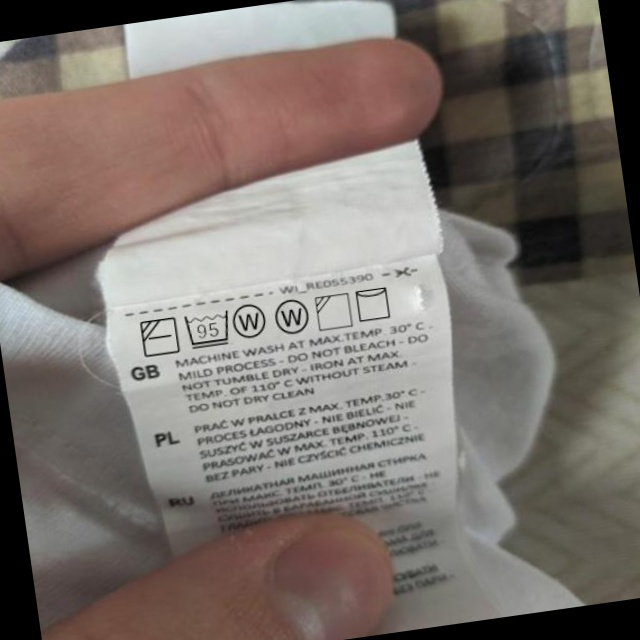95C: (182, 307, 235, 351)
dry_flat_in_shade: (137, 313, 181, 360)
line_dry: (352, 282, 396, 325)
shade_dry: (312, 290, 355, 333)
wet_clean: (231, 297, 271, 342), (272, 296, 313, 339)
